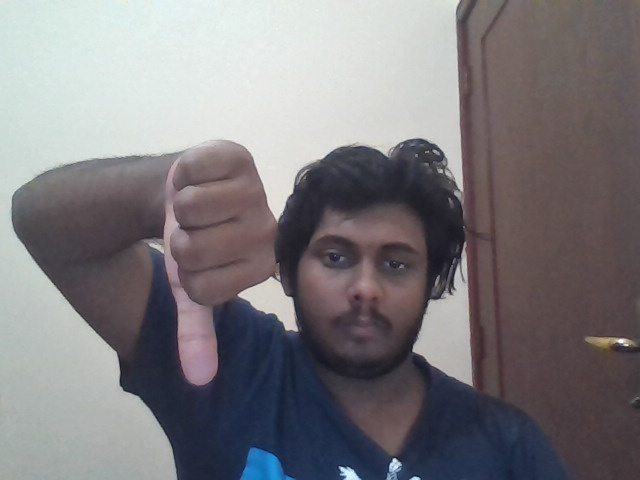thumbsdown: (163, 140, 280, 387)
